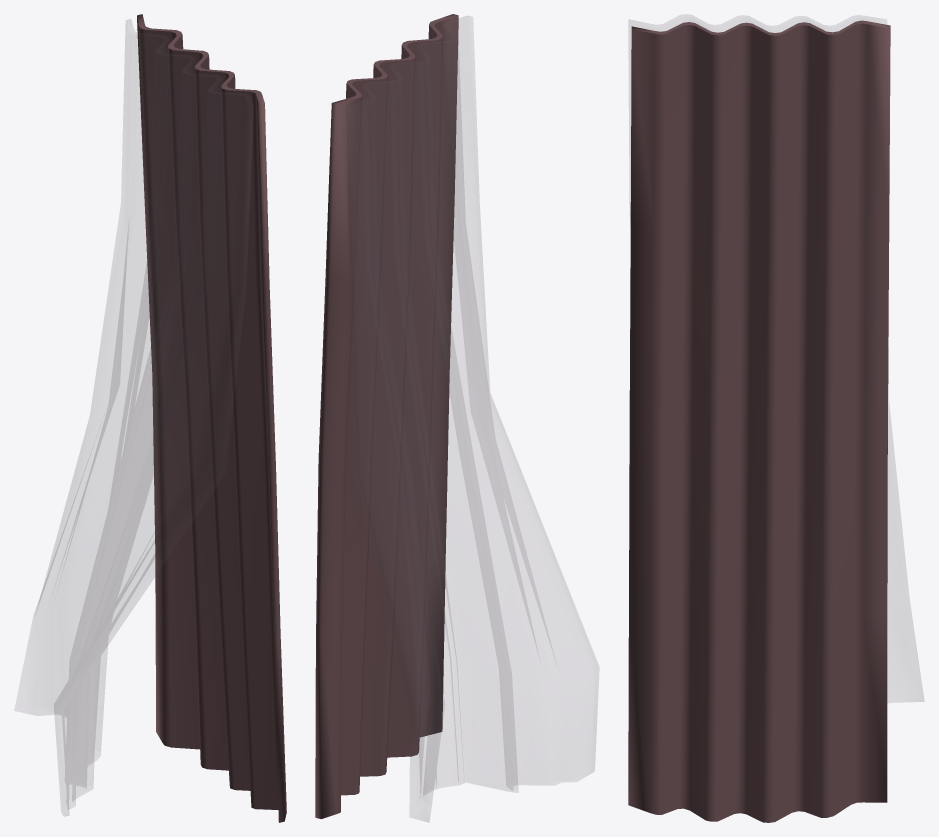
The model's file is prop_ShowerCurtainsOpen.fbx.
The picture shows the model from 3 angles, left to right: view 1: azimuth 30°, elevation 25°; view 2: azimuth 150°, elevation 25°; view 3: azimuth 270°, elevation 25°; orthographic projection. The views are drawn at different scales.
Visible parts, largest first — view 1: ShowerCurtainsOpen; view 2: ShowerCurtainsOpen; view 3: ShowerCurtainsOpen.
Part boxes in pixels (x1=…): ShowerCurtainsOpen: x1=15, y1=14, x2=286, y2=822; ShowerCurtainsOpen: x1=315, y1=14, x2=598, y2=821; ShowerCurtainsOpen: x1=628, y1=14, x2=923, y2=822.
Bounding box in the file's own units: 330 × 1040 × 362.
